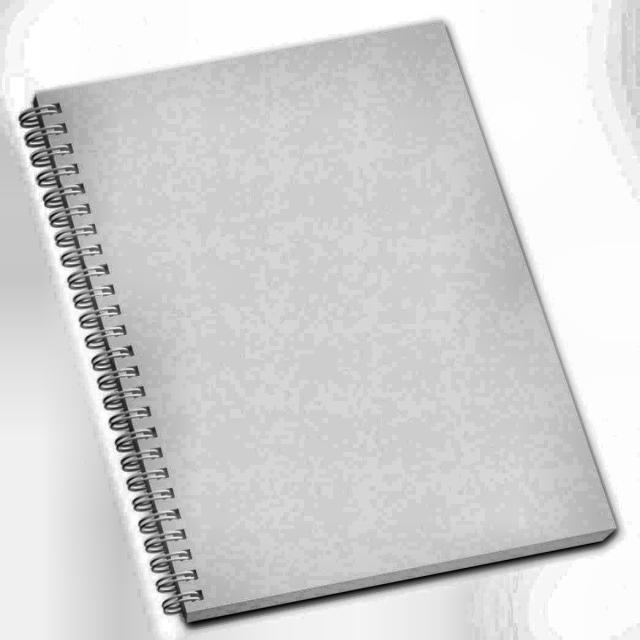Notebook: (8, 13, 626, 637)
